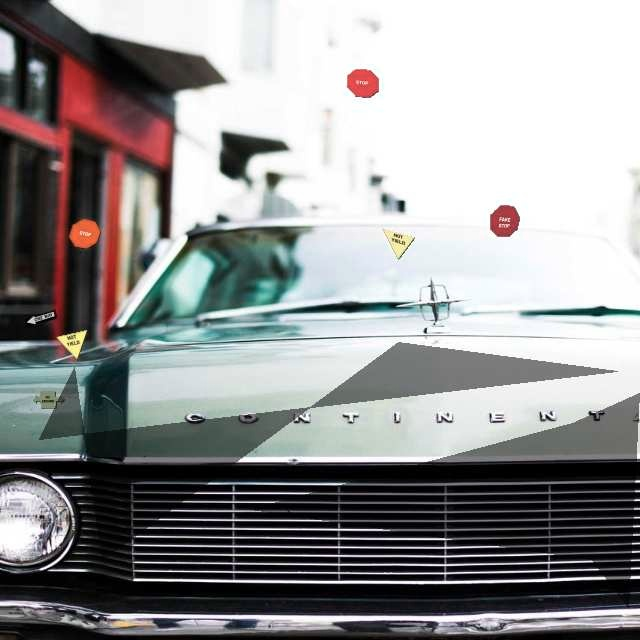FAKE_STOP: (489, 204, 520, 237)
GO_AROUND: (32, 390, 65, 409)
NOT_YIELD: (382, 228, 415, 260), (55, 329, 88, 360)
ONE_WAY_ left: (24, 309, 57, 328)
STOP: (68, 218, 101, 249), (346, 68, 379, 98)
